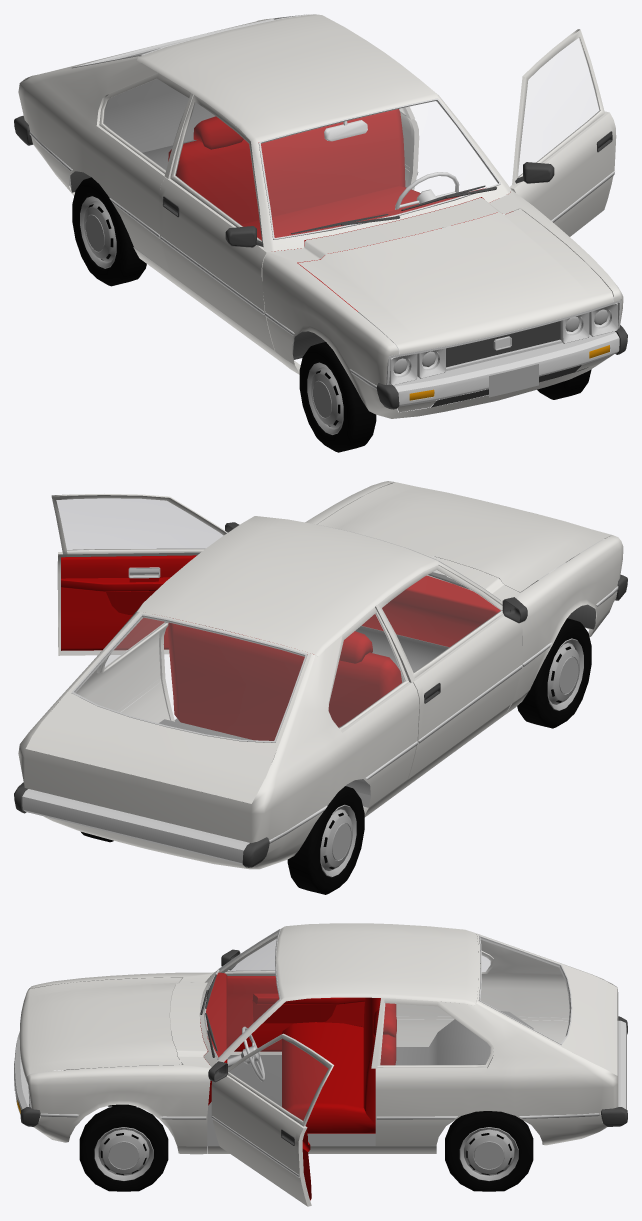
Rendered from car.fbx.
3 views of the same model, one above another, from view 1: azimuth 30°, elevation 25°; view 2: azimuth 150°, elevation 25°; view 3: azimuth 270°, elevation 25° (orthographic). The views are drawn at different scales.
Visible parts, largest first — view 1: polySurface236, polySurface269, polySurface283, polySurface270, polySurface187, polySurface257, polySurface278, polySurface274, polySurface275, polySurface276, polySurface290, polySurface166 (+2 smaller); view 2: polySurface236, polySurface269, polySurface187, polySurface283, polySurface270, polySurface257, polySurface276, polySurface275, polySurface274, polySurface278; view 3: polySurface236, polySurface187, polySurface269, polySurface283, polySurface270, polySurface166, polySurface277, polySurface274, polySurface257, polySurface278.
Boxes of the visible parts, box(x1,y1,x2,y2) form: polySurface236: box(41, 14, 623, 418); polySurface269: box(98, 38, 599, 240); polySurface283: box(168, 109, 513, 311); polySurface270: box(133, 29, 616, 362); polySurface187: box(18, 14, 419, 274); polySurface257: box(29, 14, 621, 406); polySurface278: box(14, 115, 627, 409); polySurface274: box(69, 48, 393, 359); polySurface275: box(299, 342, 376, 452); polySurface276: box(72, 177, 146, 286); polySurface290: box(489, 364, 538, 397); polySurface166: box(537, 365, 591, 399); polySurface236: box(25, 481, 623, 803); polySurface269: box(56, 498, 501, 740); polySurface187: box(18, 605, 419, 869); polySurface283: box(61, 555, 500, 740); polySurface270: box(51, 493, 522, 817); polySurface257: box(22, 524, 618, 864); polySurface276: box(287, 786, 364, 894); polySurface275: box(517, 618, 591, 728); polySurface274: box(26, 576, 595, 837); polySurface278: box(14, 522, 627, 867); polySurface236: box(19, 923, 617, 1154); polySurface187: box(371, 933, 618, 1145); polySurface269: box(205, 931, 569, 1120); polySurface283: box(200, 972, 396, 1200); polySurface270: box(207, 933, 436, 1206); polySurface166: box(79, 1105, 168, 1191); polySurface277: box(445, 1111, 533, 1191); polySurface274: box(64, 1011, 533, 1146); polySurface257: box(14, 929, 626, 1177); polySurface278: box(20, 949, 627, 1145).
Bounding box in the file's own units: 264 × 139 × 407.
